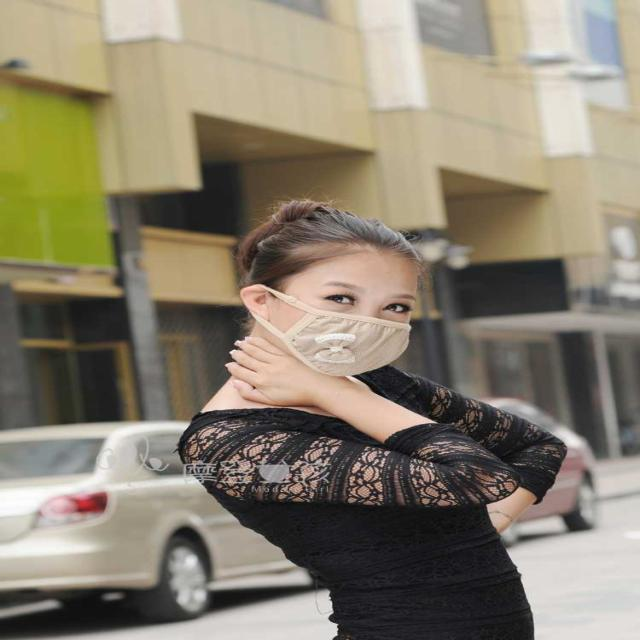mask: (274, 247, 417, 377)
